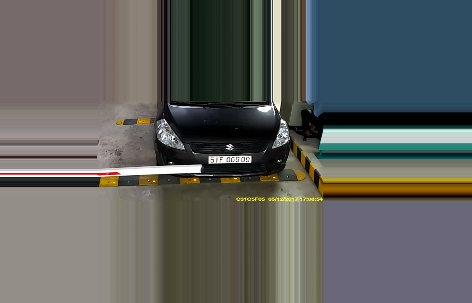plate: (205, 153, 251, 167)
